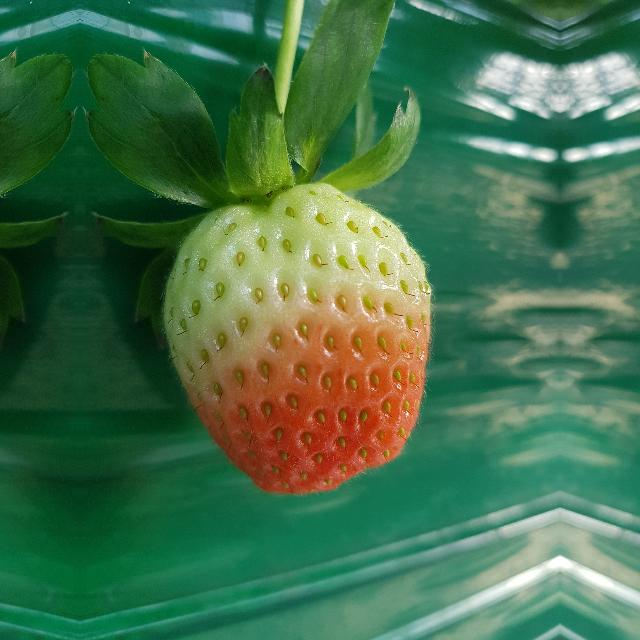Health_50: (163, 184, 433, 493)
